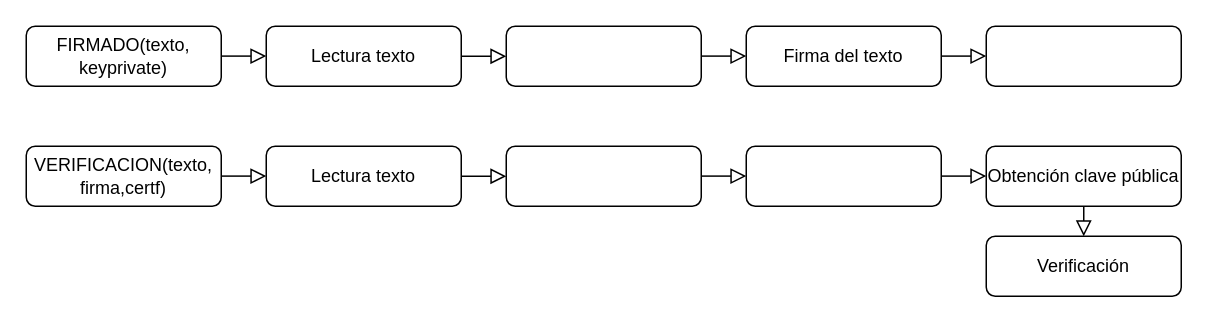
The diagram is 1208 pixels wide and 323 high, and some of its shapes have lost their labels. The shapes that lost their labels are listed below. From the top down, each one's centre as x and y in pixels, then its label:
the point at 603,55: Lectura clave privada
the point at 1083,55: Escritura en firma.dat
the point at 603,175: Lectura firma
the point at 843,175: Lectura certf
